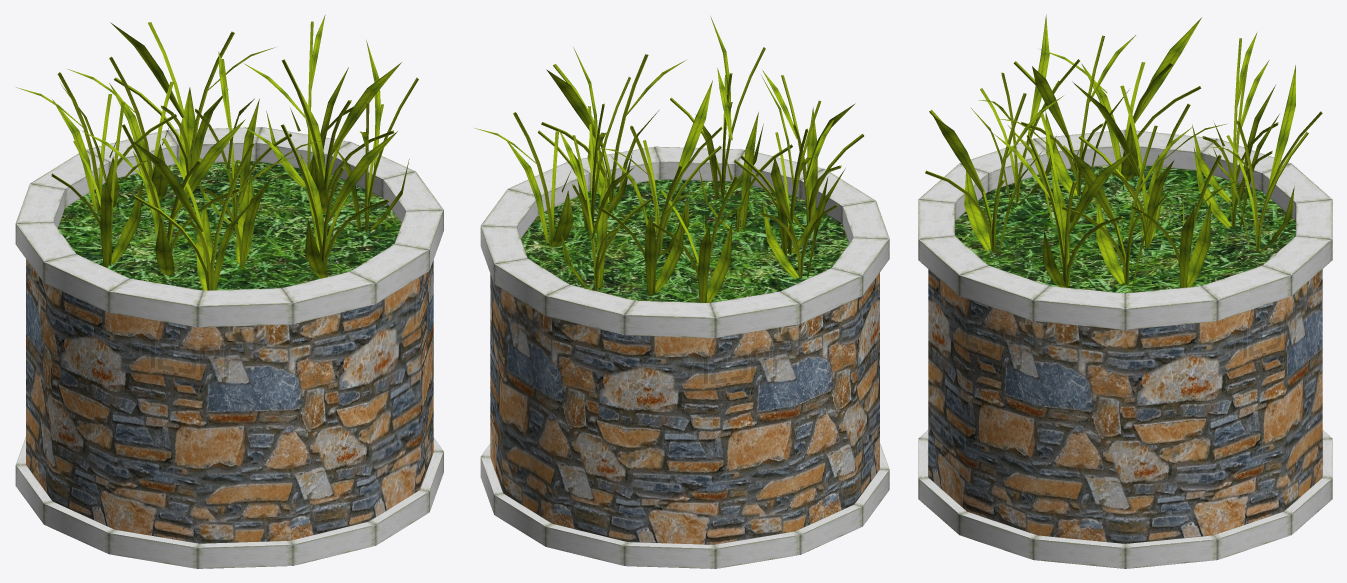
Rendered from UDC_VaseFlowers.obj.
3 views of the same model, side by side, from view 1: azimuth 30°, elevation 25°; view 2: azimuth 150°, elevation 25°; view 3: azimuth 270°, elevation 25° (orthographic). The views are drawn at different scales.
Parts seen in each view (by area): view 1: UDC_VaseFlowers; view 2: UDC_VaseFlowers; view 3: UDC_VaseFlowers.
Part boxes in pixels (<box>): UDC_VaseFlowers: <box>15,15,443,568</box>; UDC_VaseFlowers: <box>474,16,889,568</box>; UDC_VaseFlowers: <box>918,14,1332,568</box>.
Size of the model in its own units: 0.4961 by 0.513 by 0.4836.
Materials: 4 (4 with a texture image).
